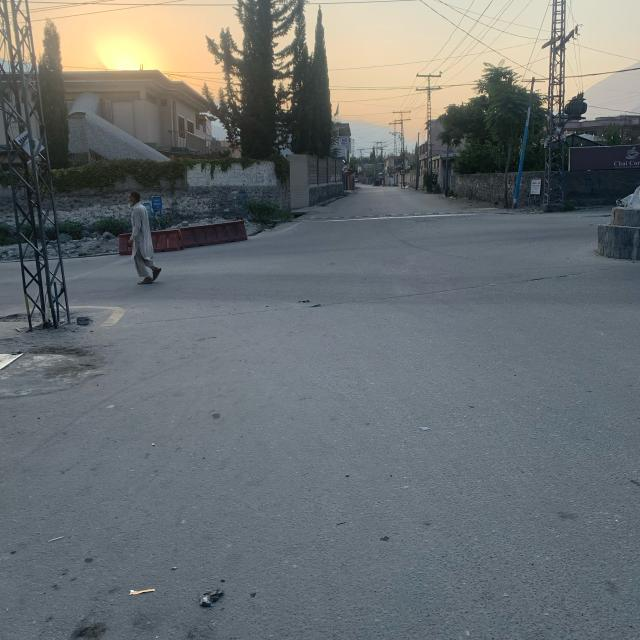Left-Turn: (65, 256, 225, 338)
Right-Turn: (529, 205, 640, 366)
straight: (361, 180, 462, 380)
